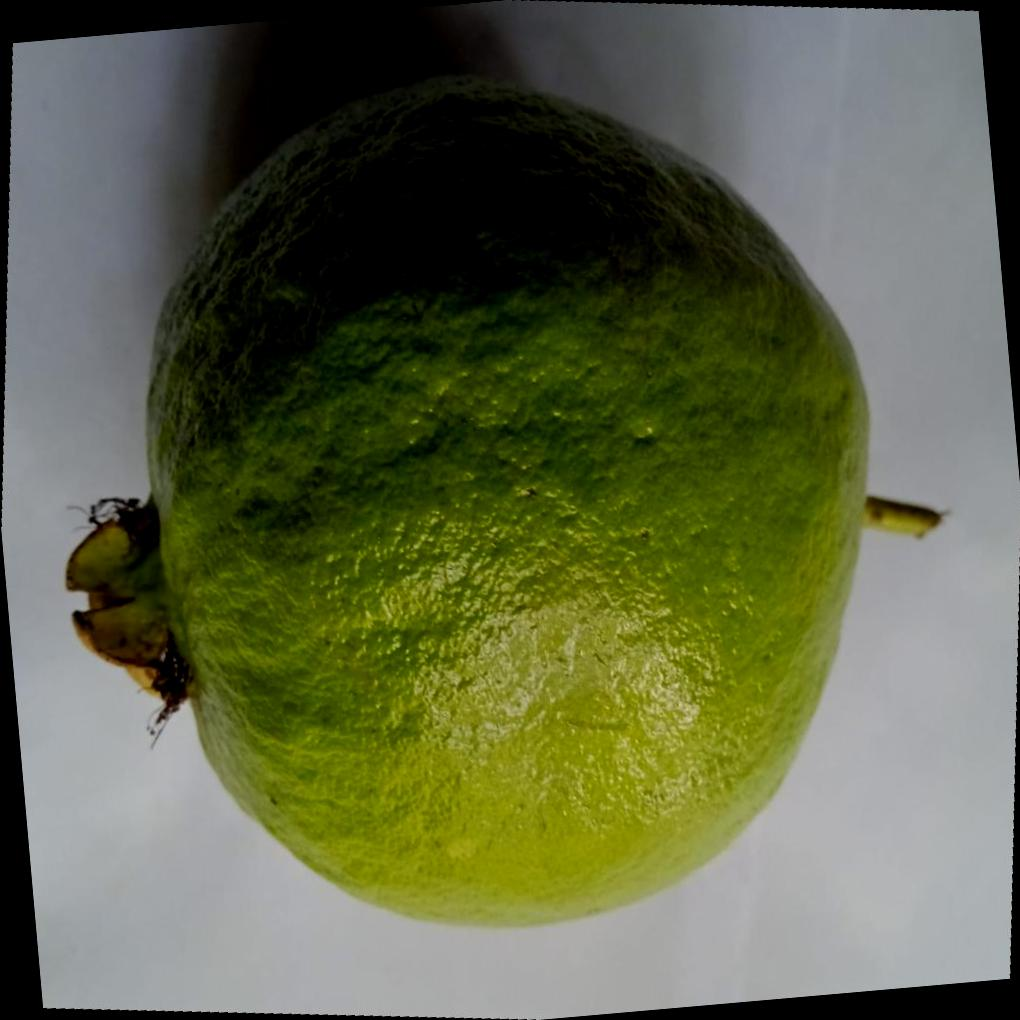FreshGuava: (63, 66, 875, 927)
